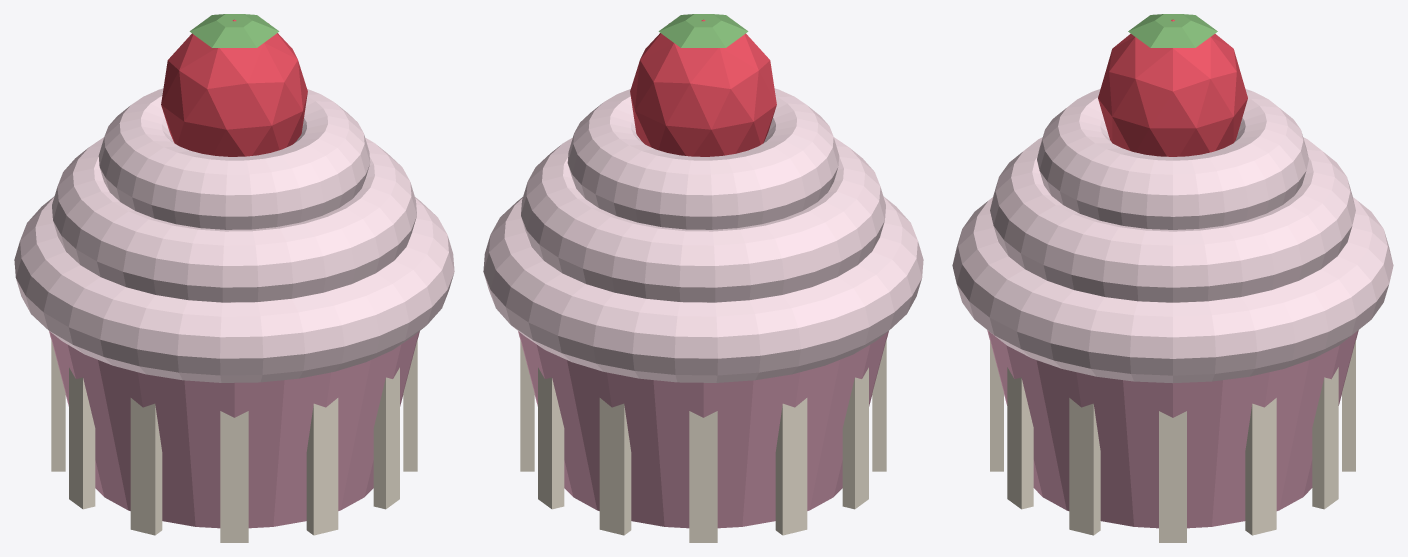
Rendered from HOB_StrawberryCupcake.fbx.
The picture shows the model from 3 angles, left to right: view 1: azimuth 30°, elevation 25°; view 2: azimuth 150°, elevation 25°; view 3: azimuth 270°, elevation 25°; orthographic projection.
Parts seen in each view (by area): view 1: HOB_StrawberryCupcake; view 2: HOB_StrawberryCupcake; view 3: HOB_StrawberryCupcake.
Part boxes in pixels (x1=…): HOB_StrawberryCupcake: x1=14, y1=14, x2=454, y2=542; HOB_StrawberryCupcake: x1=483, y1=14, x2=923, y2=542; HOB_StrawberryCupcake: x1=952, y1=14, x2=1393, y2=542.
Size of the model in its own units: 132 by 147 by 132.
